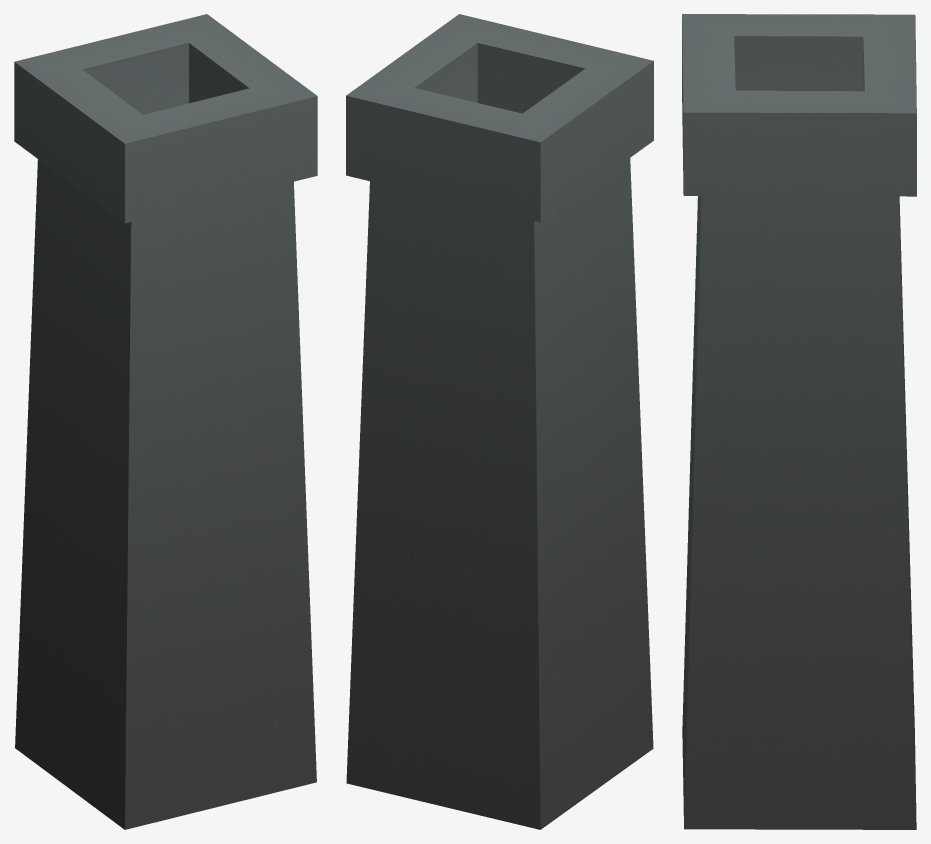
The model's file is ZLP_Build_D_32.FBX.
The picture shows the model from 3 angles, left to right: view 1: azimuth 30°, elevation 25°; view 2: azimuth 150°, elevation 25°; view 3: azimuth 270°, elevation 25°; orthographic projection. The views are drawn at different scales.
Parts seen in each view (by area): view 1: ZLP_Build_D_32; view 2: ZLP_Build_D_32; view 3: ZLP_Build_D_32.
Part boxes in pixels (<box>): ZLP_Build_D_32: <box>14,14,317,829</box>; ZLP_Build_D_32: <box>346,14,653,829</box>; ZLP_Build_D_32: <box>682,14,916,829</box>.
Bounding box in the file's own units: 19.26 × 64.87 × 19.26.
